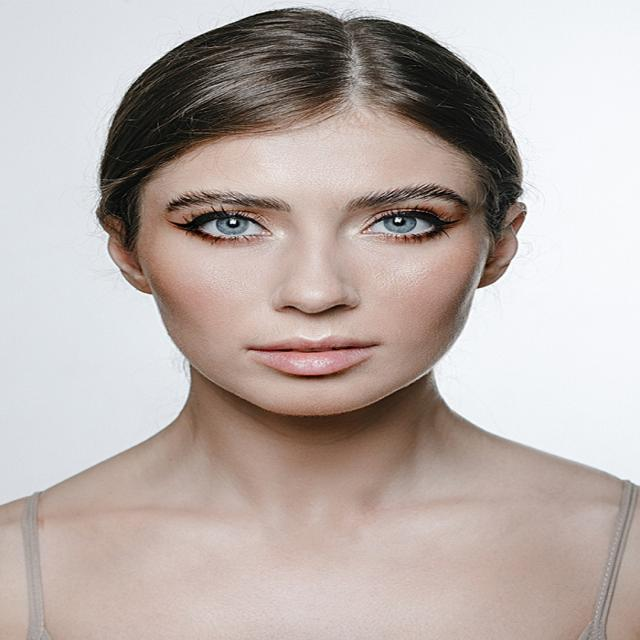earlobe: (128, 266, 153, 295), (477, 262, 504, 288)
eye: (360, 207, 448, 240), (190, 210, 278, 241)
nose: (270, 300, 357, 330)
wholeear: (95, 206, 153, 294), (477, 202, 527, 288)
